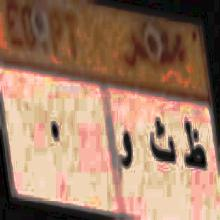0: (46, 114, 62, 154)
Thaa: (181, 113, 207, 178)
thaa: (148, 116, 176, 170)
waw: (117, 120, 135, 176)
